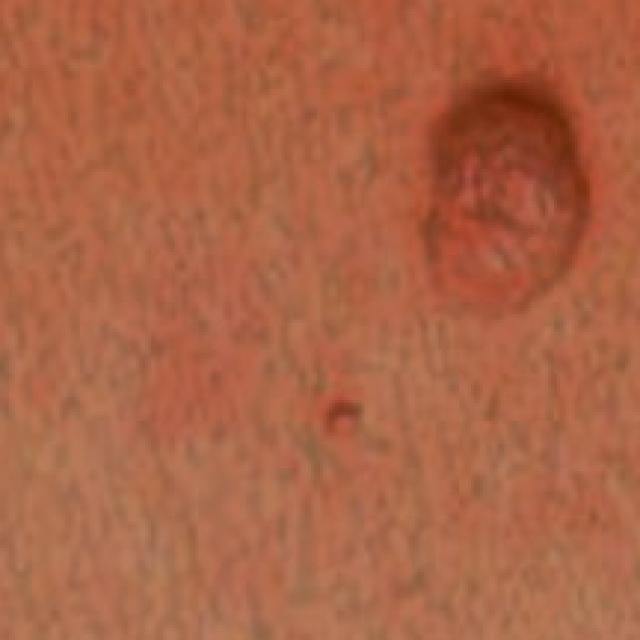wart: (420, 59, 590, 317)
